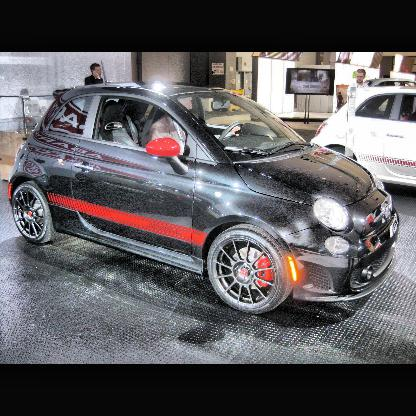FIAT 500 Abarth 2012: (9, 61, 402, 317)
